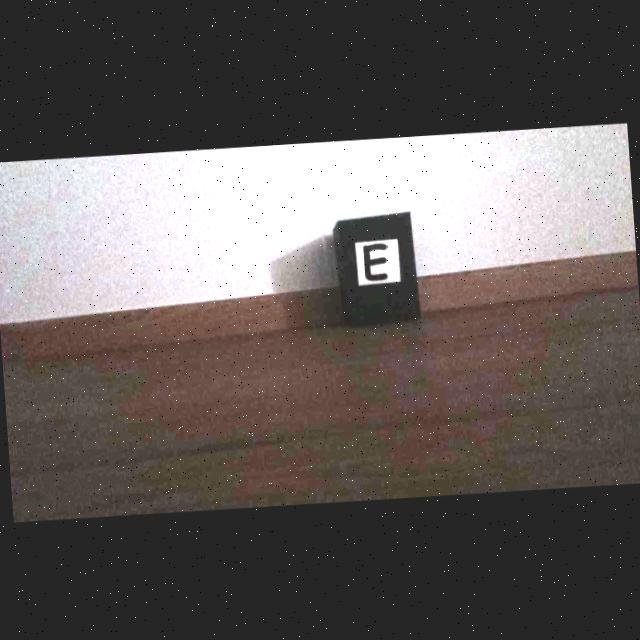E: (363, 242, 389, 280)
